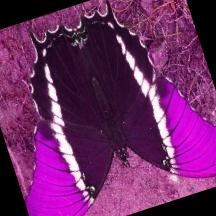butterfly: (24, 3, 216, 216)
